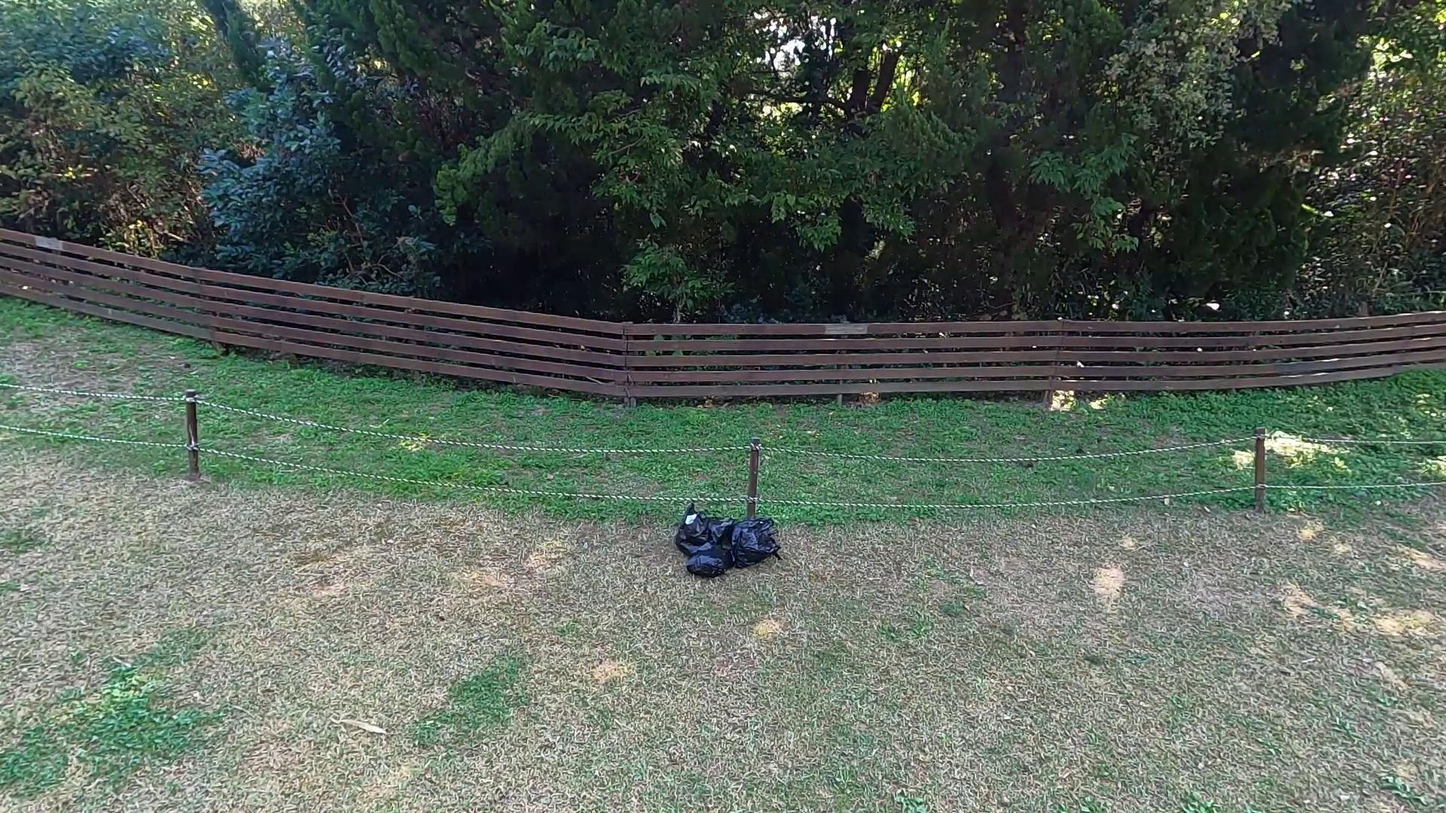trash: (733, 516, 782, 569), (675, 518, 734, 557), (688, 545, 732, 577), (679, 502, 710, 543)
